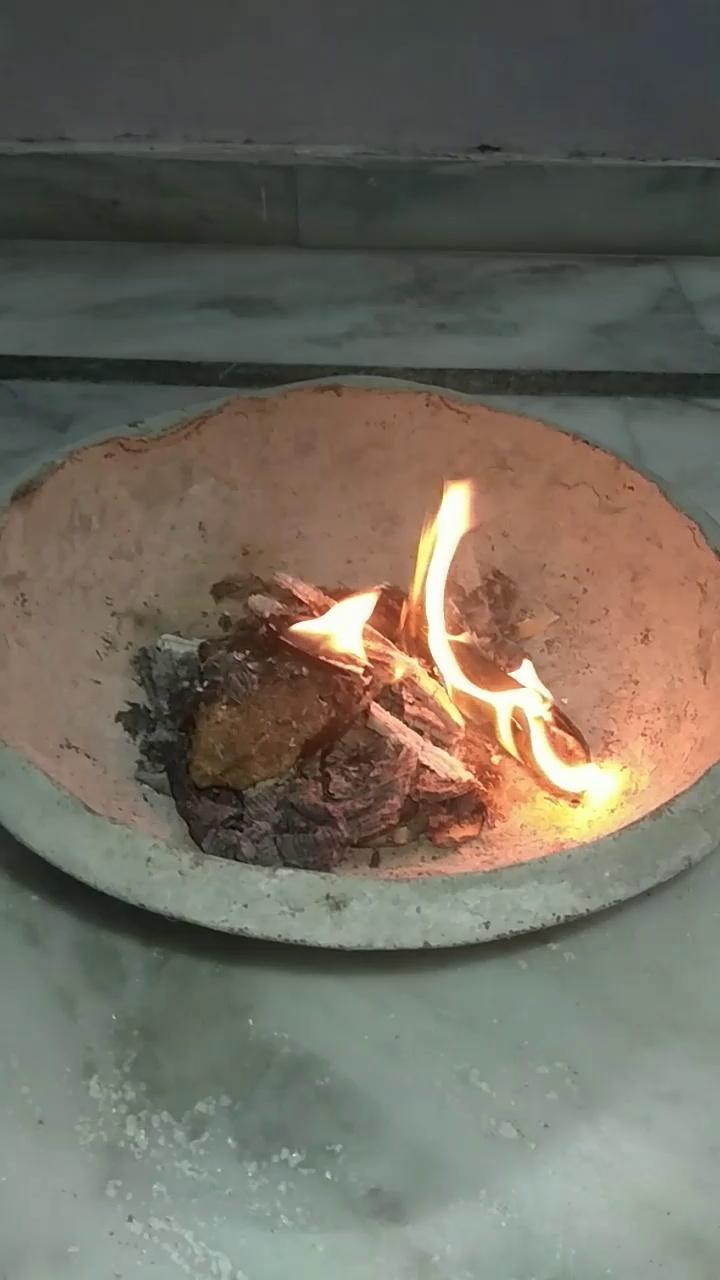fire: (292, 478, 600, 792)
